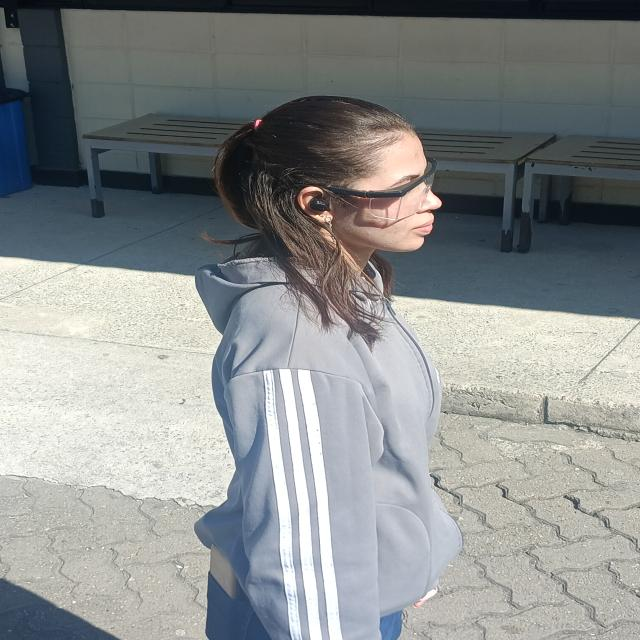oculos-epi: (326, 157, 436, 221)
